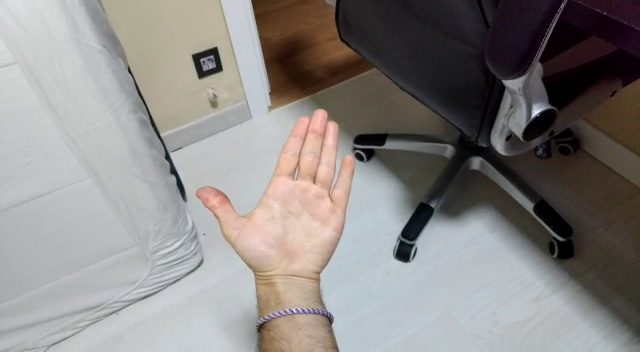Palm: (194, 106, 358, 279)
